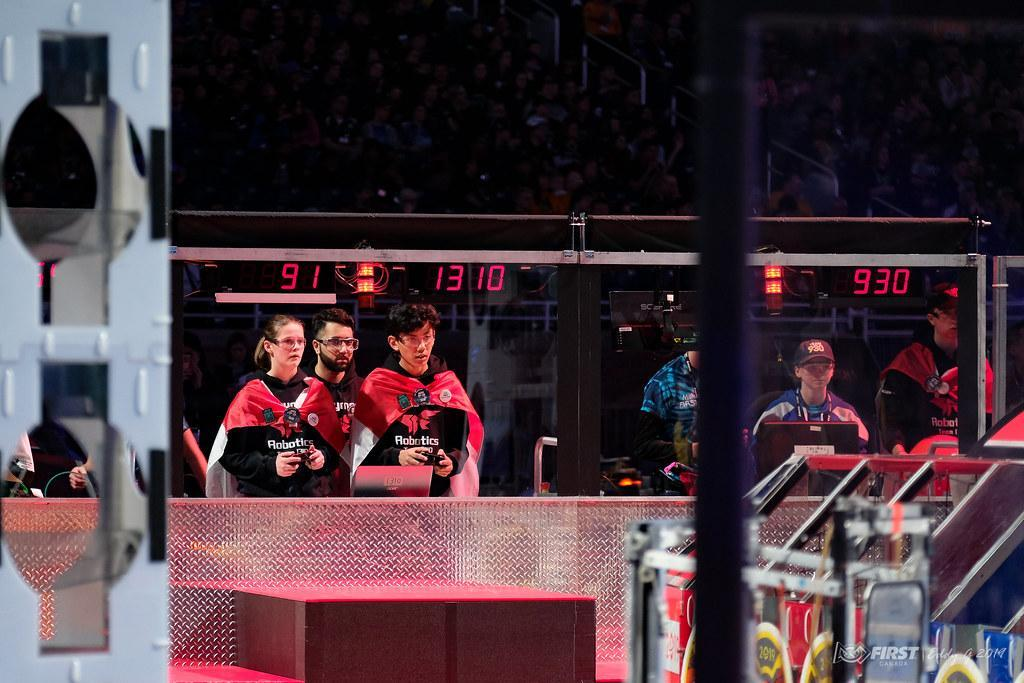robot: (627, 450, 1024, 683)
